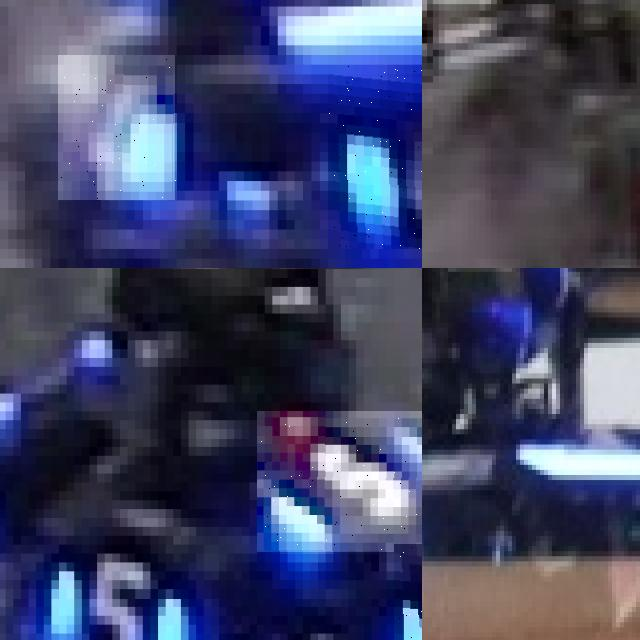B4: (328, 65, 422, 249), (58, 55, 176, 200)
B5: (257, 411, 422, 553), (28, 536, 188, 640), (394, 544, 422, 640)
